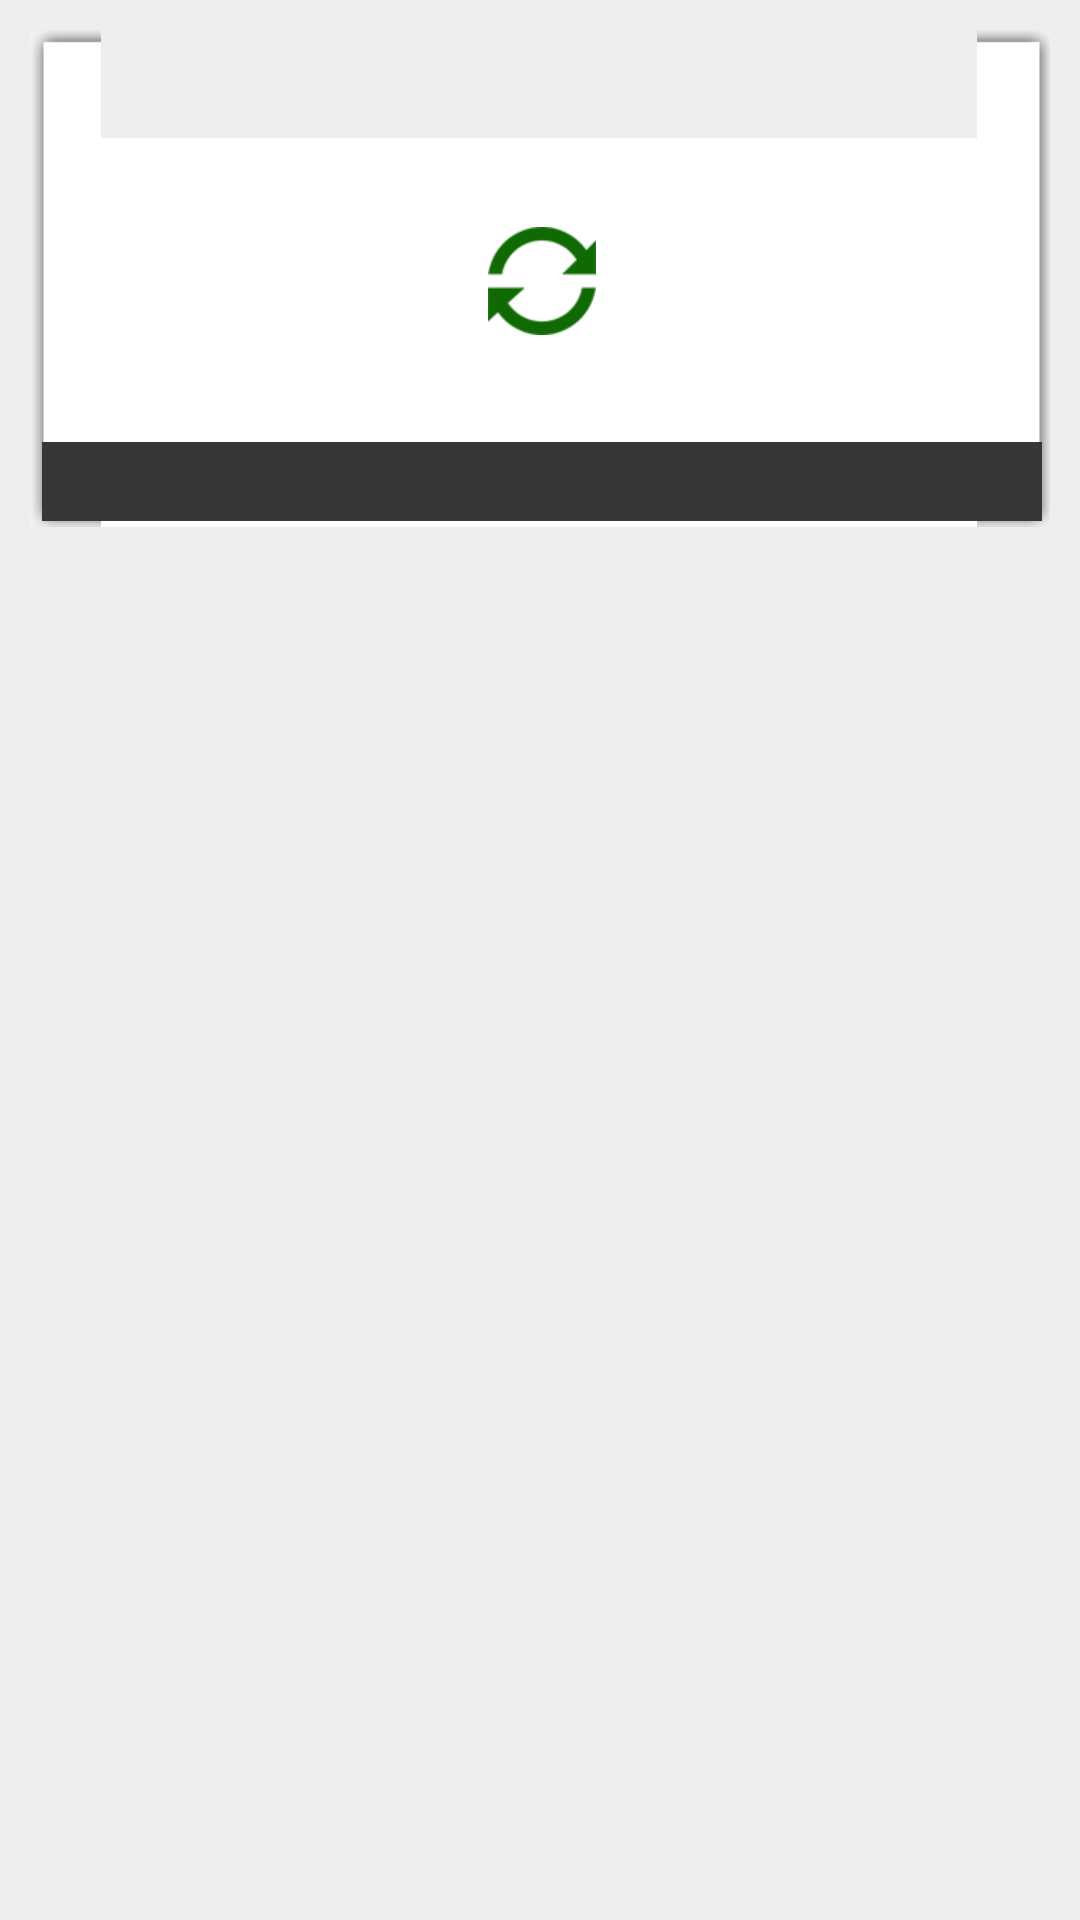

Point at icon controls on the screen. Image size 1080 × 1920, points as [x,y].
thumbnail loading: [542,281]
